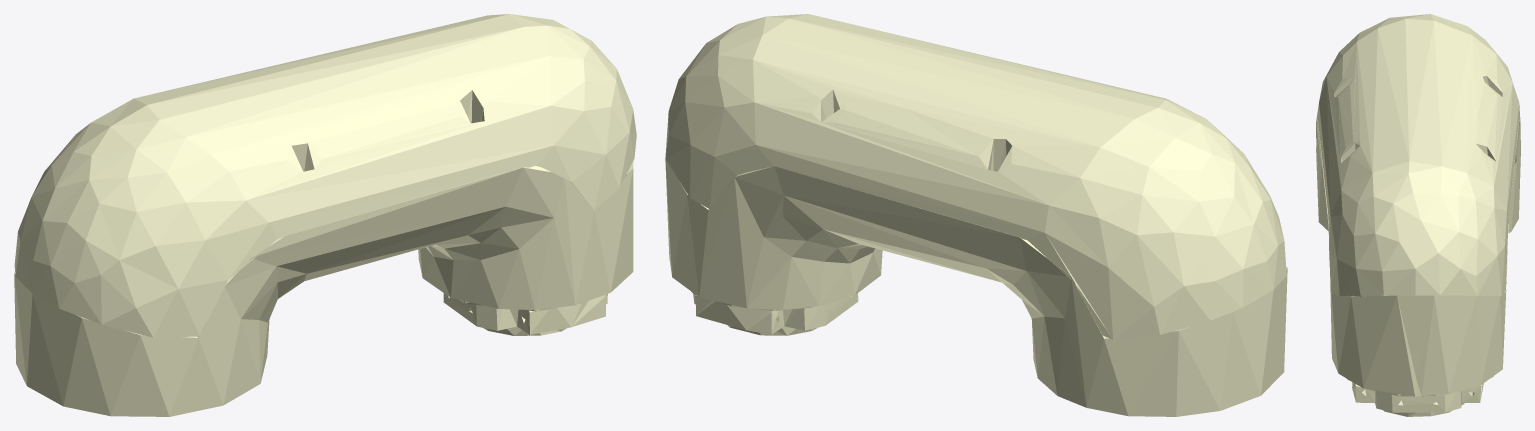
Rendered from MyCobot320Link3.dae.
3 renders of one model, left to right at view 1: azimuth 30°, elevation 25°; view 2: azimuth 150°, elevation 25°; view 3: azimuth 270°, elevation 25°, orthographic. The views are drawn at different scales.
Parts seen in each view (by area): view 1: MyCobot320Link3; view 2: MyCobot320Link3; view 3: MyCobot320Link3.
Boxes of the visible parts, box(x1,y1,x2,y2) form: MyCobot320Link3: box(14, 14, 636, 416); MyCobot320Link3: box(665, 14, 1287, 416); MyCobot320Link3: box(1316, 14, 1520, 416).
Bounding box in the file's own units: 0.1853 × 0.0692 × 0.087.
